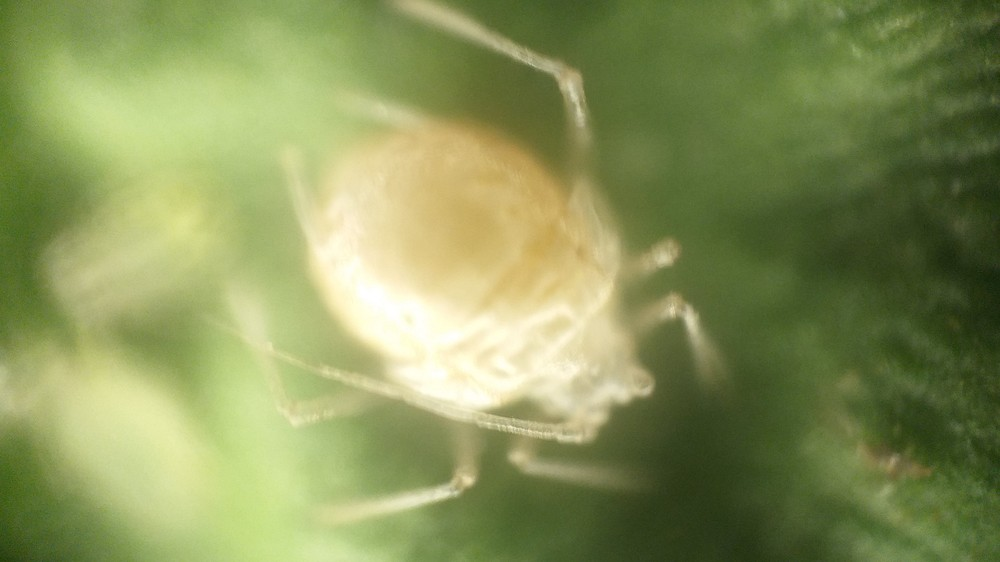Pulgon: (234, 3, 765, 553)
